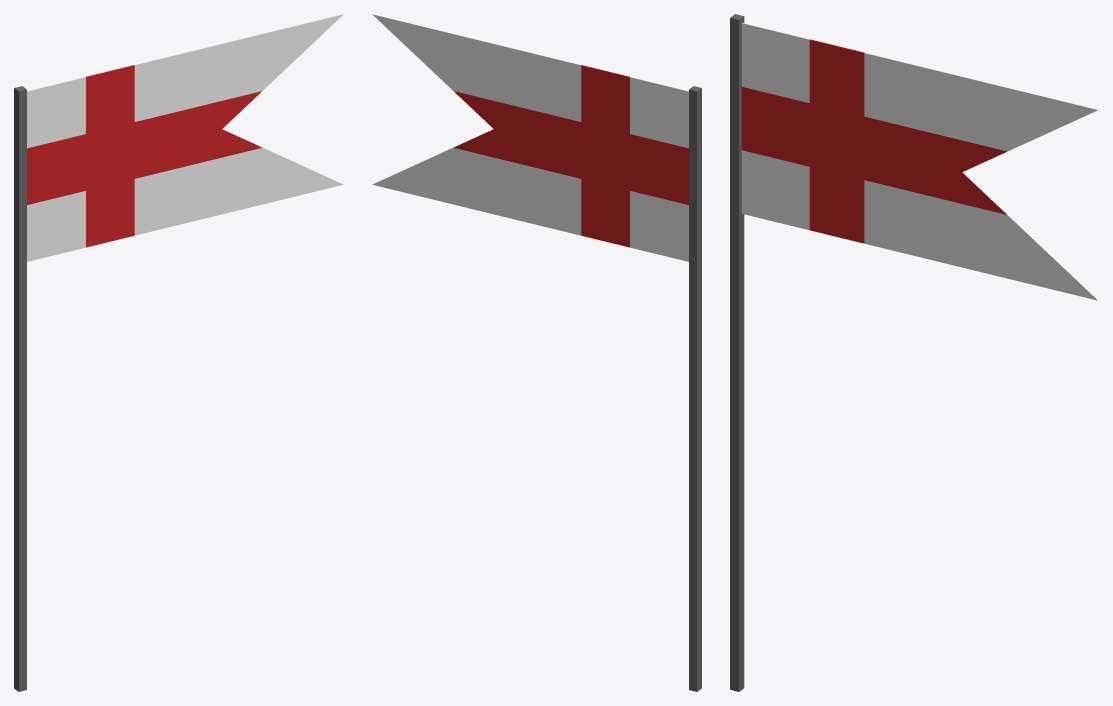
The model's file is SPW_Medieval_Flag.glb.
3 views of the same model, side by side, from view 1: azimuth 30°, elevation 25°; view 2: azimuth 150°, elevation 25°; view 3: azimuth 330°, elevation 25° (orthographic). The views are drawn at different scales.
Parts seen in each view (by area): view 1: SPW_Medieval_Flag; view 2: SPW_Medieval_Flag; view 3: SPW_Medieval_Flag.
Boxes of the visible parts, left/top/right/bottom form: SPW_Medieval_Flag: left=14, top=14, right=343, bottom=691; SPW_Medieval_Flag: left=372, top=14, right=701, bottom=691; SPW_Medieval_Flag: left=730, top=14, right=1098, bottom=691.
Size of the model in its own units: 0.7667 by 1.35 by 0.0191.
1 material, 1 textured.
